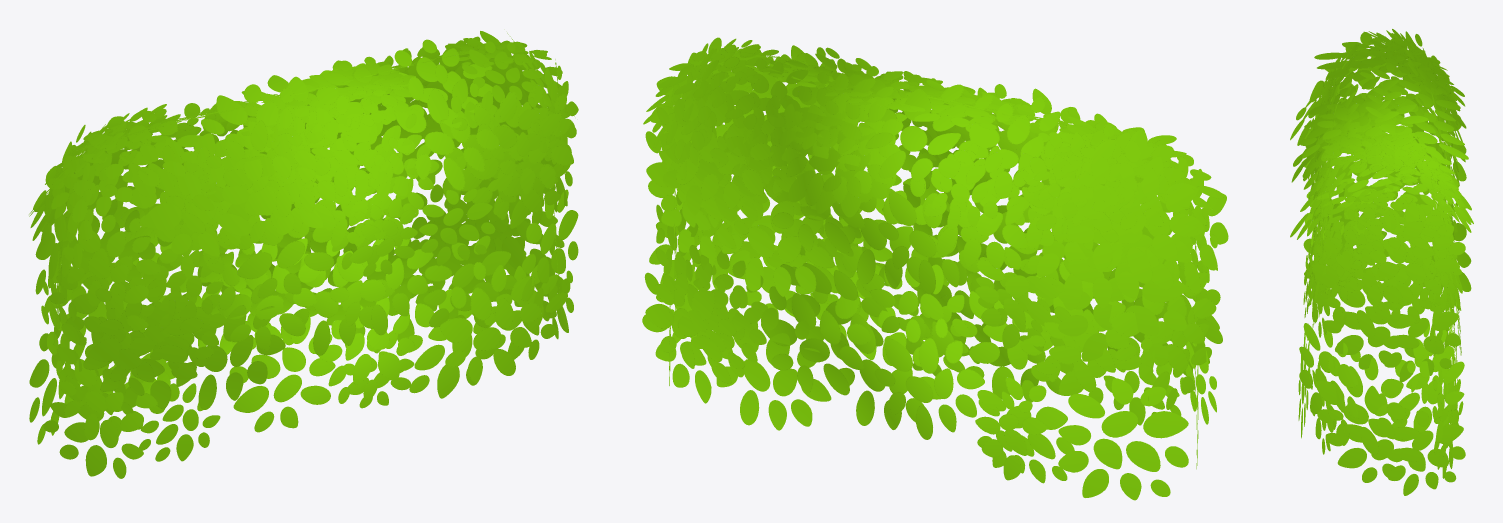
The model's file is Bush_Large.glb.
3 renders of one model, left to right at view 1: azimuth 30°, elevation 25°; view 2: azimuth 150°, elevation 25°; view 3: azimuth 270°, elevation 25°, orthographic. The views are drawn at different scales.
Visible parts, largest first — view 1: Bush_Large; view 2: Bush_Large; view 3: Bush_Large.
Part boxes in pixels (<box>): Bush_Large: <box>29,31,578,478</box>; Bush_Large: <box>642,37,1228,500</box>; Bush_Large: <box>1290,29,1473,495</box>.
Size of the model in its own units: 1.9 by 1.22 by 0.7239.
1 material, 1 textured.
